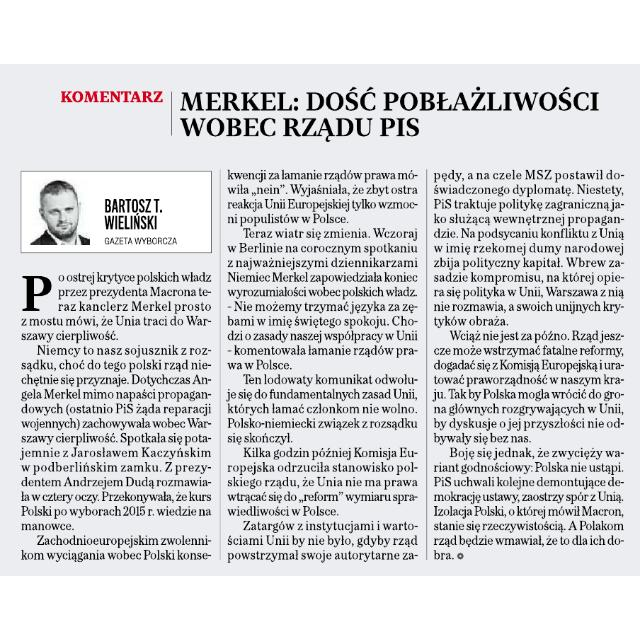author: (99, 194, 170, 232)
body: (223, 166, 422, 566), (430, 166, 630, 564), (13, 268, 216, 566)
title: (56, 82, 604, 146)
